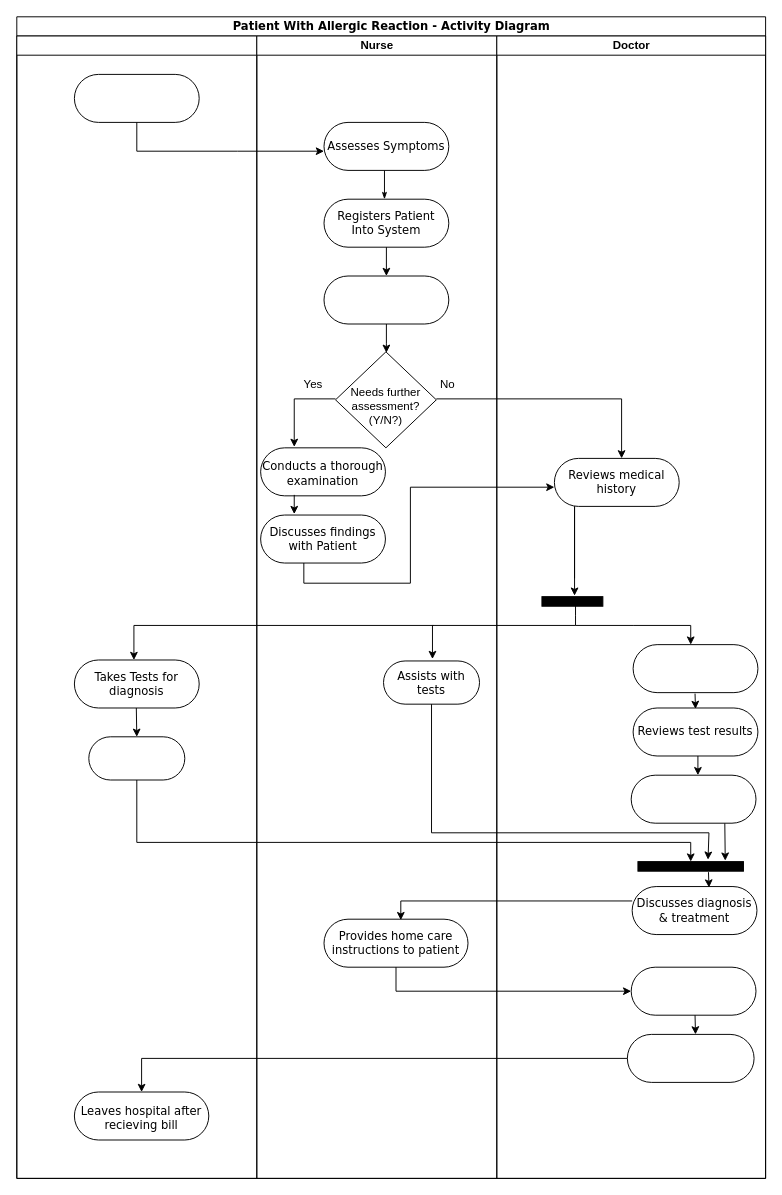
Image size: 782x1195. Some labels were removed from this diagram. Each missing label, with the box of its shape:
Administers Emergency Treatment: (323, 275, 449, 324)
Arrives at ER (with symptoms): (73, 73, 199, 122)
Assesses condition further: (630, 774, 756, 823)
Notifies Billing Staff: (626, 1033, 754, 1082)
Orders additional tests: (632, 644, 758, 693)
Patient: (16, 35, 257, 1178)
Receives test results: (88, 736, 185, 780)
Schedules follow-up appointment: (630, 966, 756, 1015)
